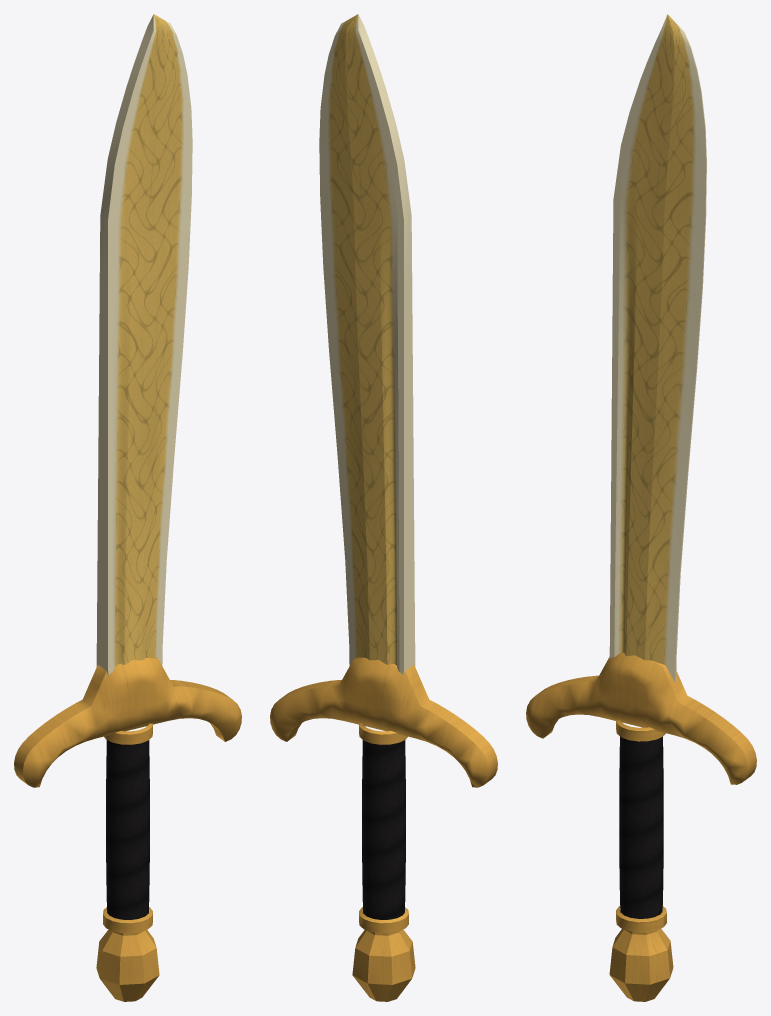
The model's file is SunsteelFalchion.glb.
3 views of the same model, side by side, from view 1: azimuth 30°, elevation 25°; view 2: azimuth 150°, elevation 25°; view 3: azimuth 330°, elevation 25° (orthographic).
Visible parts, largest first — view 1: SunsteelFalchion; view 2: SunsteelFalchion; view 3: SunsteelFalchion.
Part boxes in pixels (left/top/right/bottom): SunsteelFalchion: left=14, top=14, right=241, bottom=1001; SunsteelFalchion: left=270, top=14, right=497, bottom=1001; SunsteelFalchion: left=526, top=14, right=756, bottom=1001.
Size of the model in its own units: 0.8507 by 3.63 by 0.22.
Materials: 1 (1 with a texture image).
